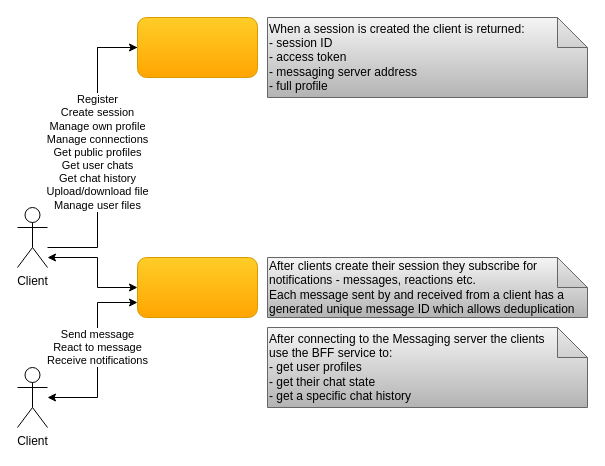
Some shapes in this 605 by 466 pixel diagram are drawn without their labels. The centre of each missing label's shape, as x and y in pixels:
Backend For Frontend: the point at 197,47
Messaging: the point at 197,287
